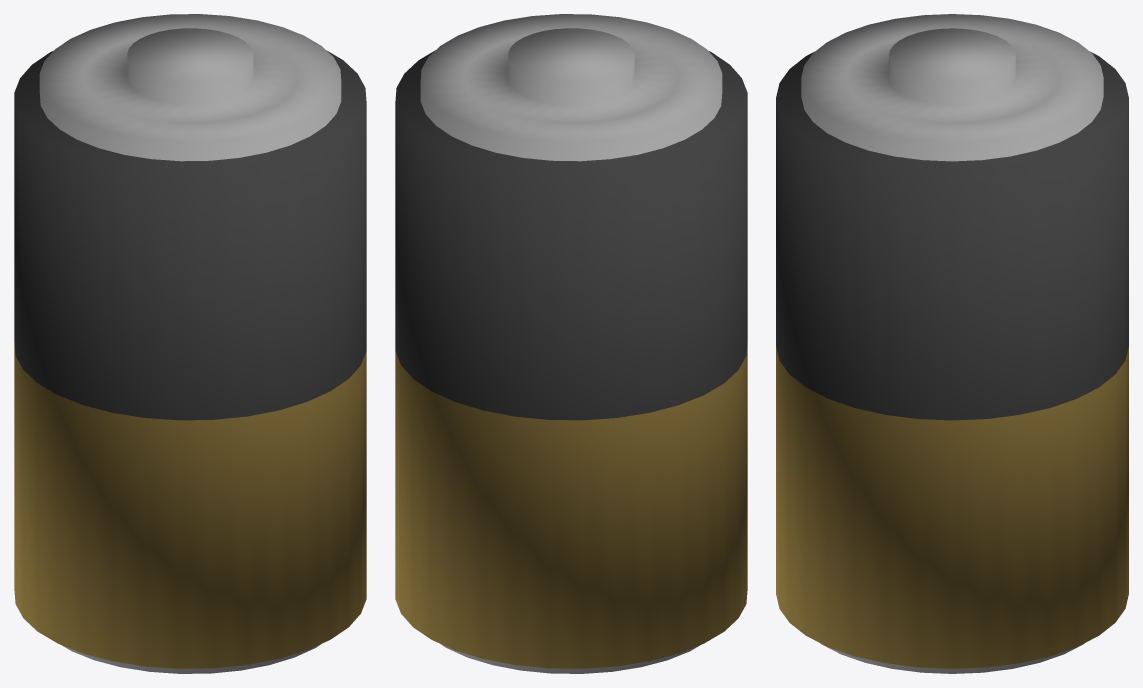
File: Battery.fbx
The picture shows the model from 3 angles, left to right: view 1: azimuth 30°, elevation 25°; view 2: azimuth 150°, elevation 25°; view 3: azimuth 270°, elevation 25°; orthographic projection.
Visible parts, largest first — view 1: Cylinder; view 2: Cylinder; view 3: Cylinder.
Part boxes in pixels (x1,y1,x2,y2): Cylinder: (14,14,366,673); Cylinder: (395,14,747,673); Cylinder: (776,14,1128,673).
Size of the model in its own units: 80.24 by 139 by 80.24.
